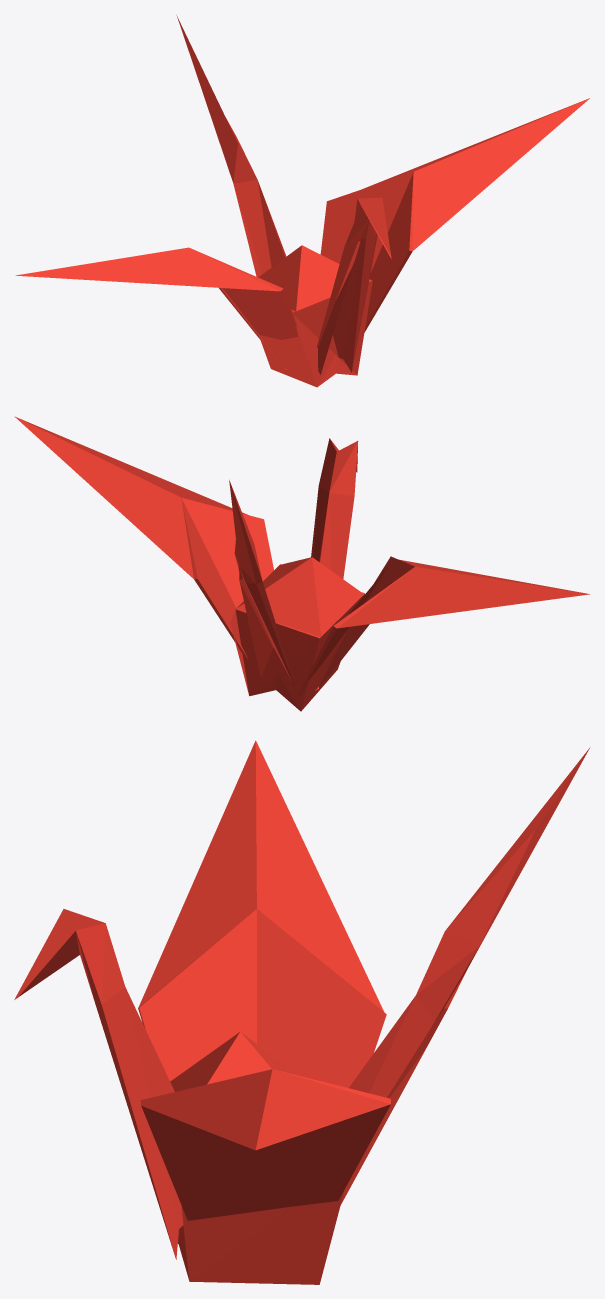
The model's file is ORIGAMI.glb.
3 views of the same model, one above another, from view 1: azimuth 30°, elevation 25°; view 2: azimuth 150°, elevation 25°; view 3: azimuth 270°, elevation 25° (orthographic). The views are drawn at different scales.
Visible parts, largest first — view 1: Node; view 2: Node; view 3: Node.
Boxes of the visible parts, x1,y1,x2,y2 form: Node: (15,15,589,387); Node: (14,416,589,711); Node: (14,740,589,1284).
Bounding box in the file's own units: 2.11 × 1.04 × 1.09.
